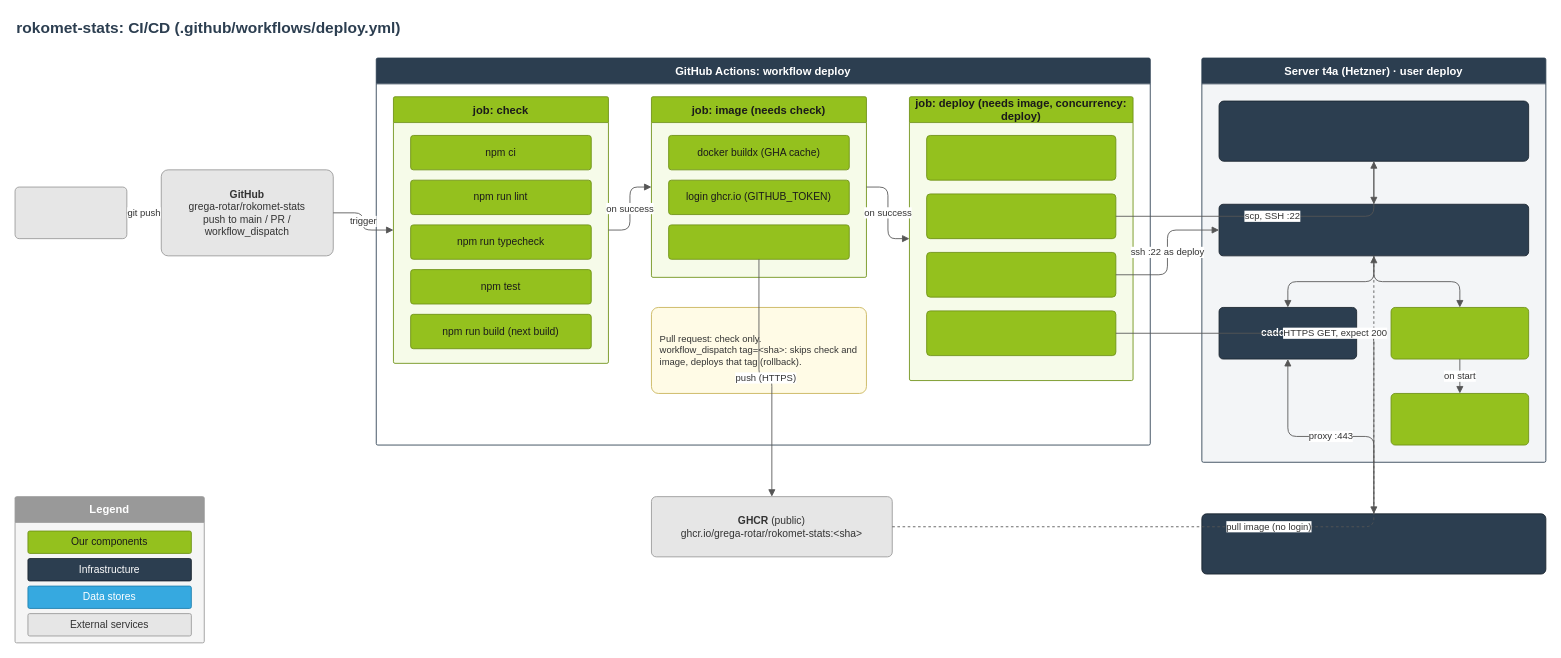
This 1561x658 diagram has some shape labels left out. Each missing label, with the centre of its shape:
"/srv/rokomet-stats compose.yml · Caddyfile · .env · certs/ · claude-pool/" goes at (x=1373, y=130).
"app :3000" goes at (x=1459, y=333).
"Cloudflare https://rokomet.etiam.si/api/health" goes at (x=1373, y=543).
"Developer" goes at (x=70, y=212).
"docker compose IMAGE_TAG=<sha> pull app, up -d" goes at (x=1373, y=229).
"Drizzle migrate() before listening" goes at (x=1459, y=419).
"poll /api/health, 30 × 2 s" goes at (x=1021, y=333).
"push :<sha> + :latest" goes at (x=758, y=241).
"scp compose.yml + Caddyfile" goes at (x=1021, y=216).
"SSH key + known_hosts (secrets)" goes at (x=1021, y=157).
"ssh: docker compose pull app && up -d" goes at (x=1021, y=274).
